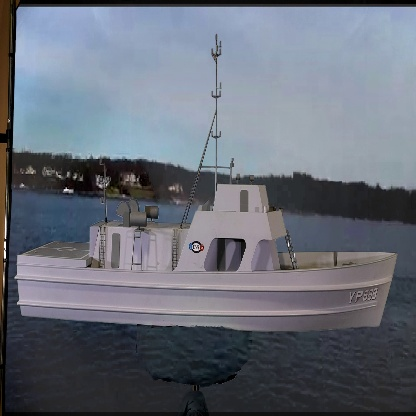YP689: (14, 34, 399, 332)
